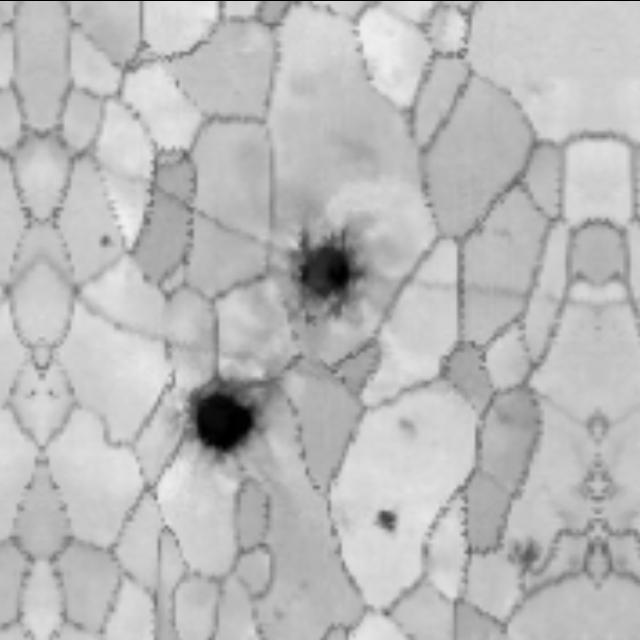good_void: (266, 209, 379, 331), (189, 381, 273, 459), (486, 524, 555, 598), (370, 497, 414, 552), (88, 223, 121, 255), (393, 413, 425, 446)
